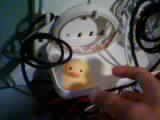duck: (53, 56, 100, 89)
